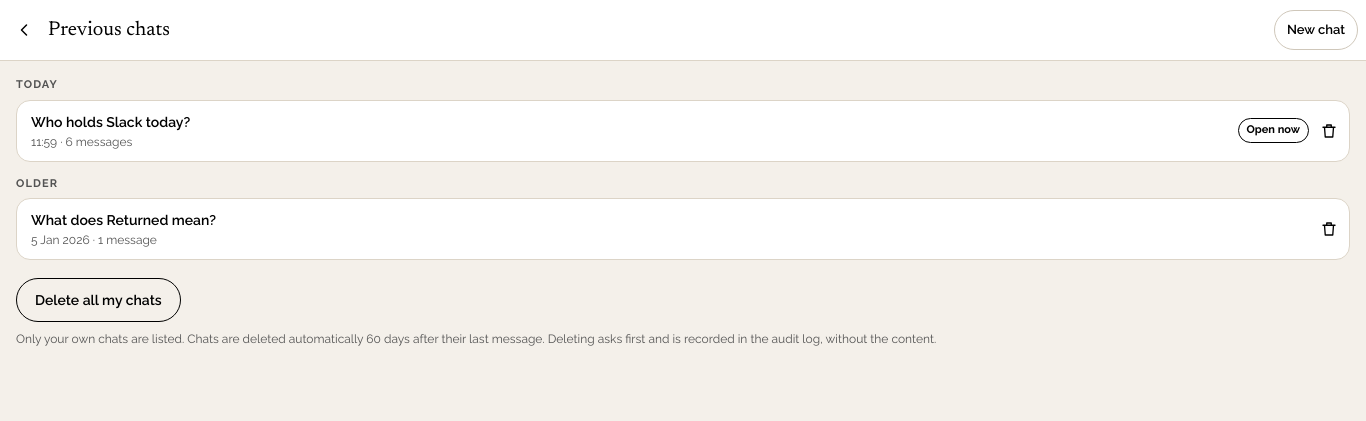
Test: PreviousChats (board: Phone · Assistant · Previous chats) › delete one asks in the row; Keep changes nothing; Delete removes it
Click the button named "Delete “What does Returned mean?”" at [1329, 229], box [1309,209,1349,249]
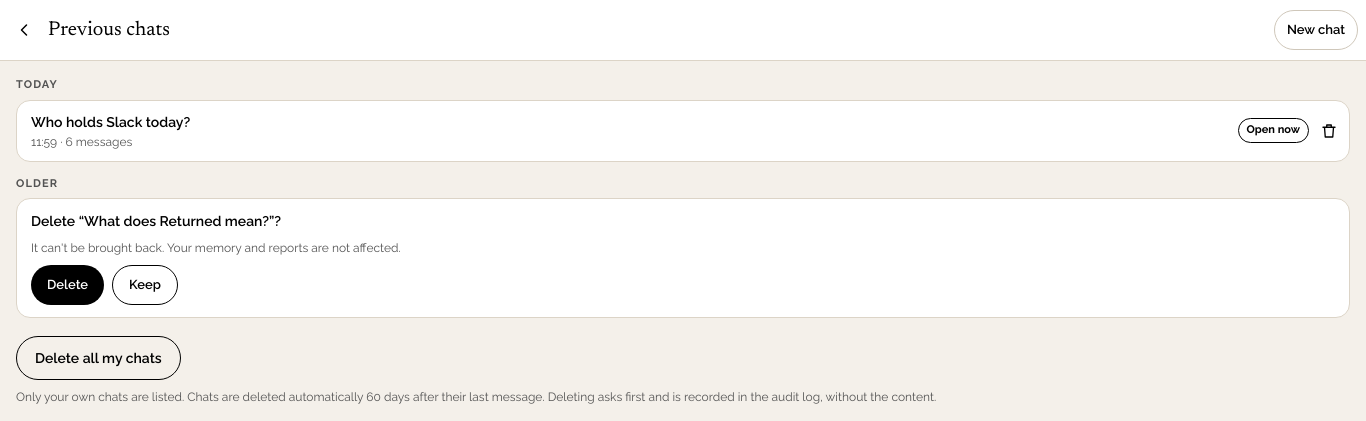
Expected: the message shows "Delete “What does Returned mean?”?", [31,213,401,305]
Click the button "Keep" at [145, 285], box [112,265,178,305]
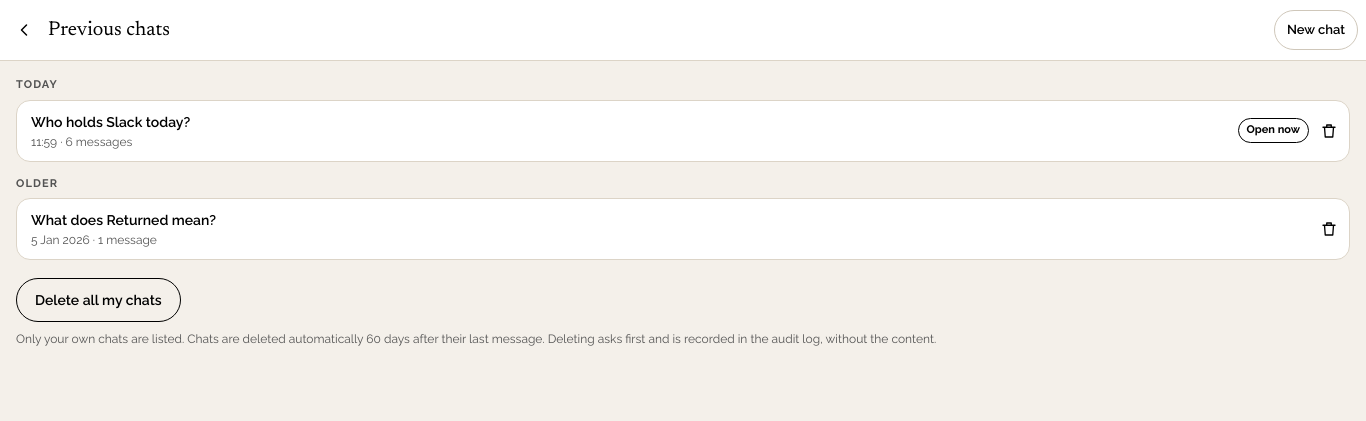
Click the button named "Delete “What does Returned mean?”" at [1329, 229], box [1309,209,1349,249]
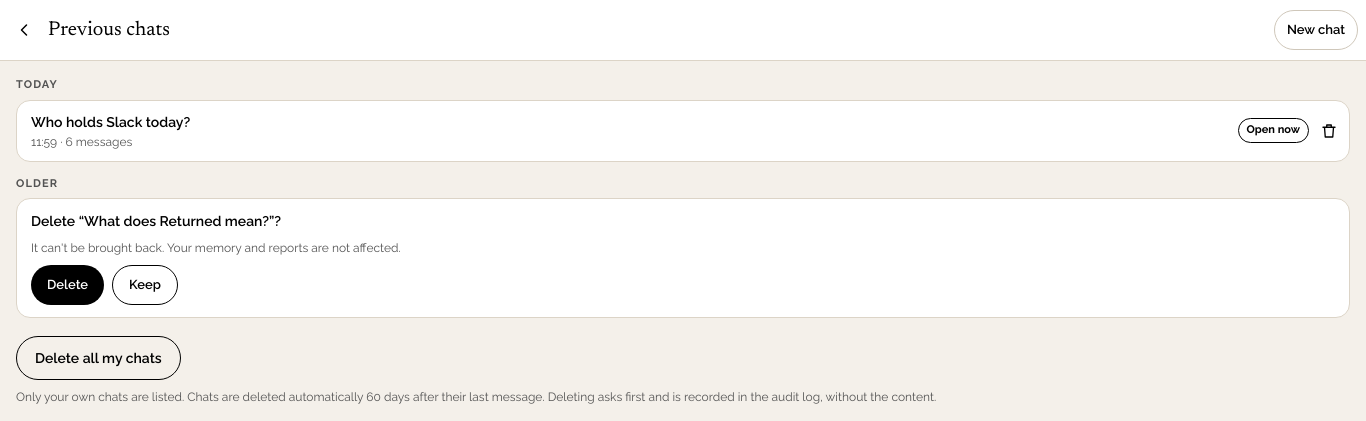
Click the button "Delete" at [68, 285], box [31,265,104,305]
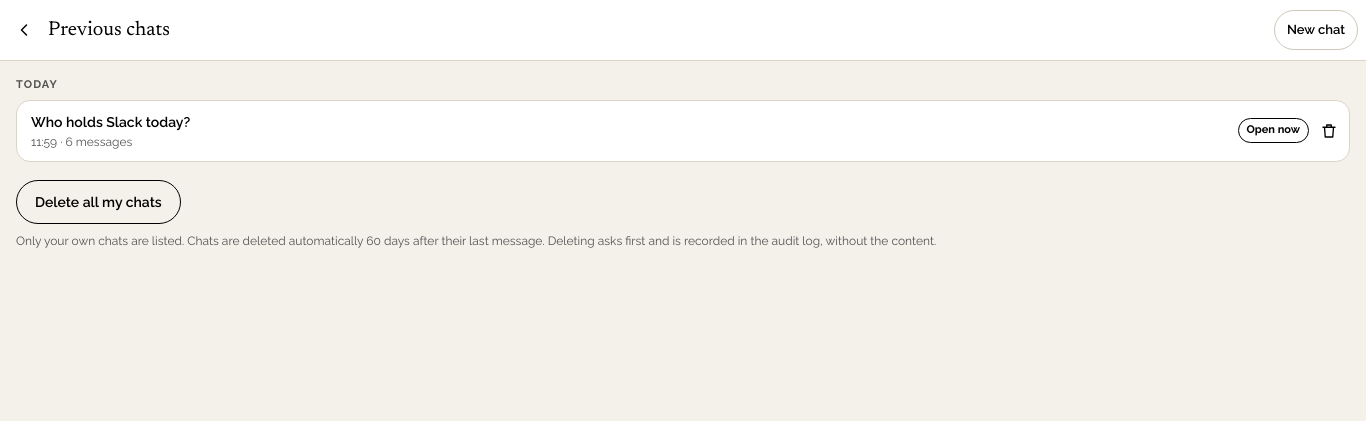
Expected: the text "What does Returned mean?" is gone
